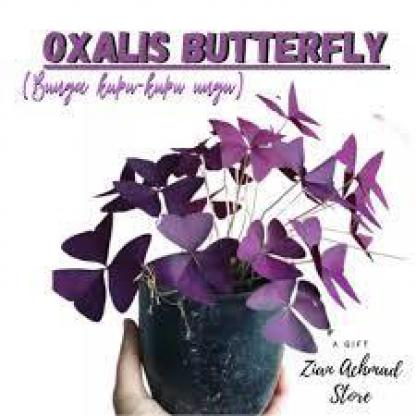Kupu-Kupu: (95, 149, 223, 238), (49, 221, 153, 313), (323, 142, 397, 249), (206, 116, 301, 197), (255, 273, 327, 352)
